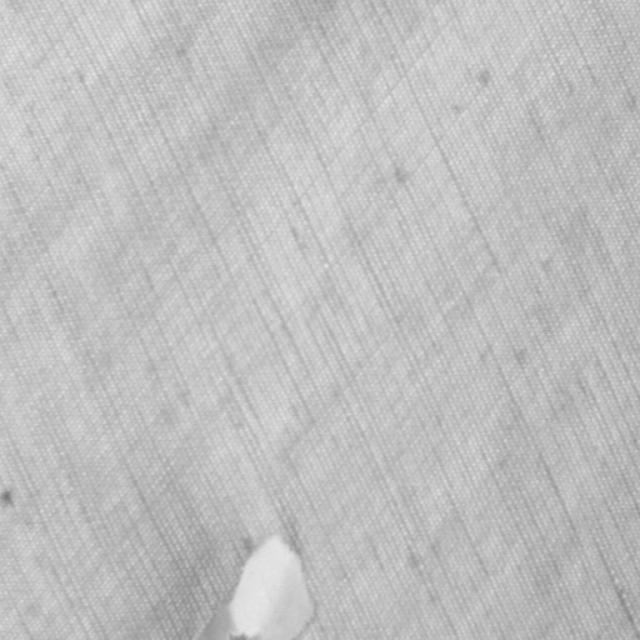objects: (198, 529, 319, 639)
